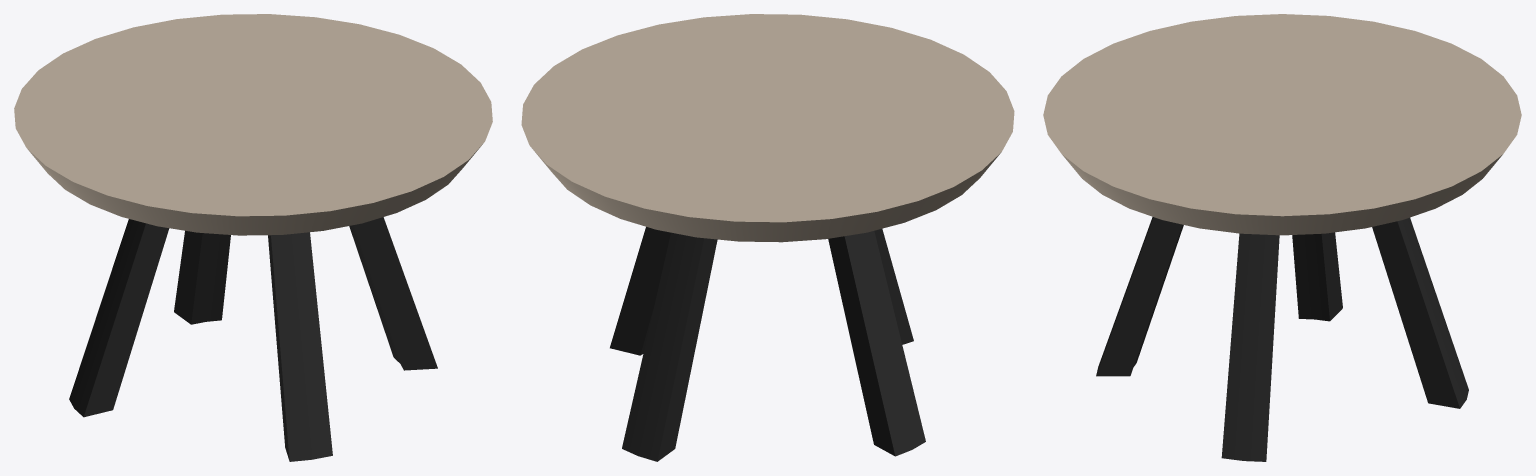
File: TableRonde_18.fbx
The picture shows the model from 3 angles, left to right: view 1: azimuth 30°, elevation 25°; view 2: azimuth 150°, elevation 25°; view 3: azimuth 270°, elevation 25°; orthographic projection. The views are drawn at different scales.
Visible parts, largest first — view 1: pCylinder12; view 2: pCylinder12; view 3: pCylinder12.
Boxes of the visible parts, <box> form: pCylinder12: <box>14,14,492,461</box>; pCylinder12: <box>521,14,1014,461</box>; pCylinder12: <box>1043,14,1521,461</box>.
Size of the model in its own units: 44.11 by 27.26 by 44.11.
